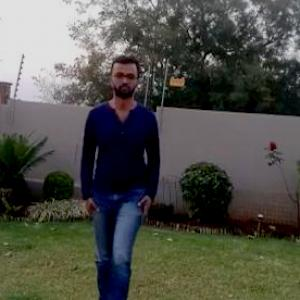follow: (76, 51, 162, 299)
